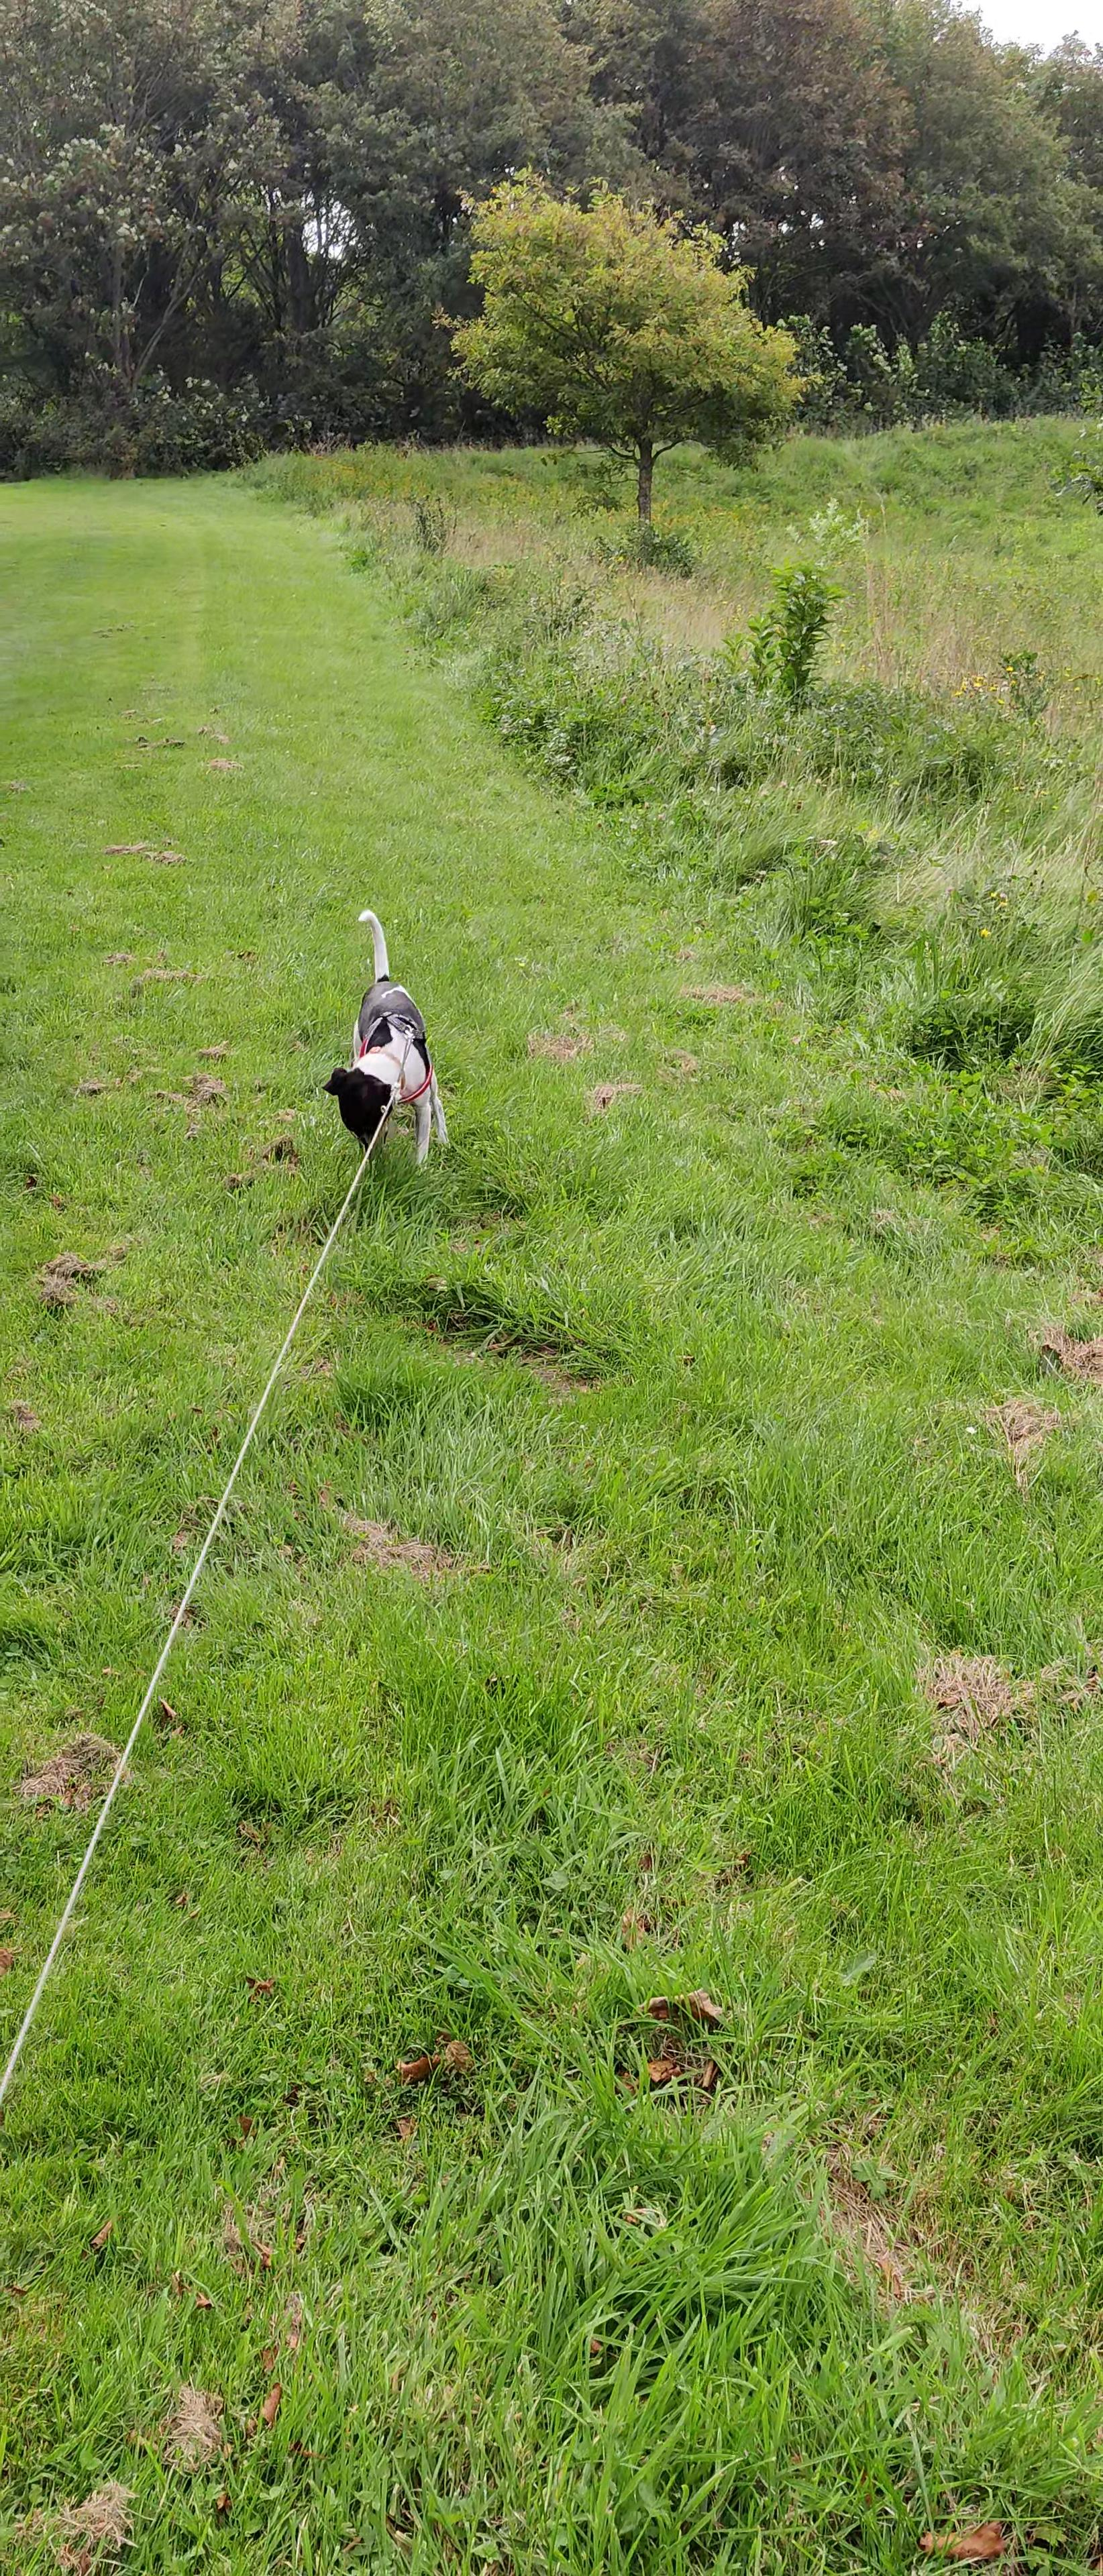Dog: (319, 904, 454, 1186)
